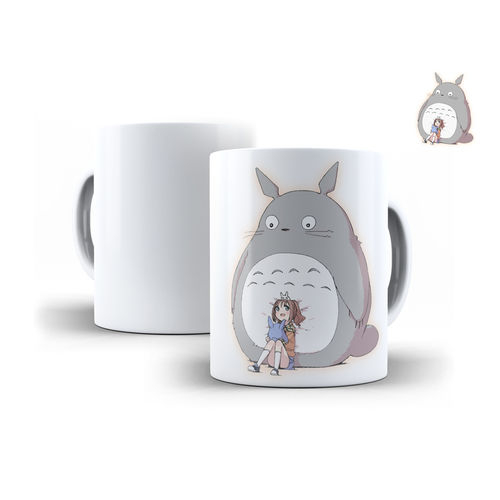Totoro: (226, 162, 383, 371), (415, 70, 476, 147)
